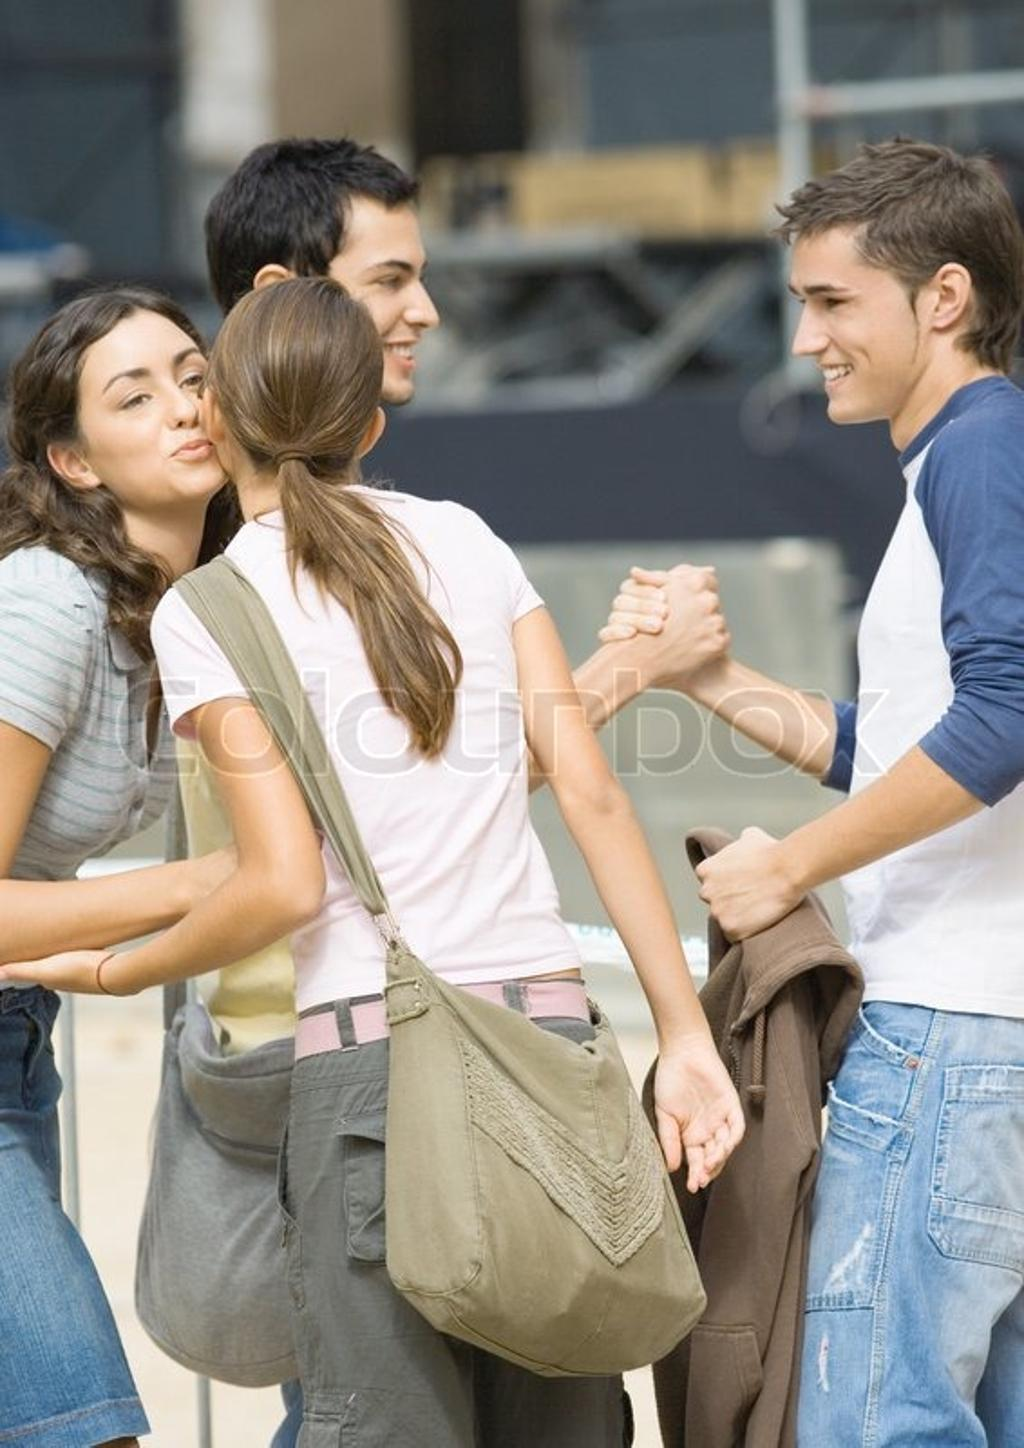face: (76, 311, 229, 501), (303, 198, 439, 399), (789, 226, 919, 421)
